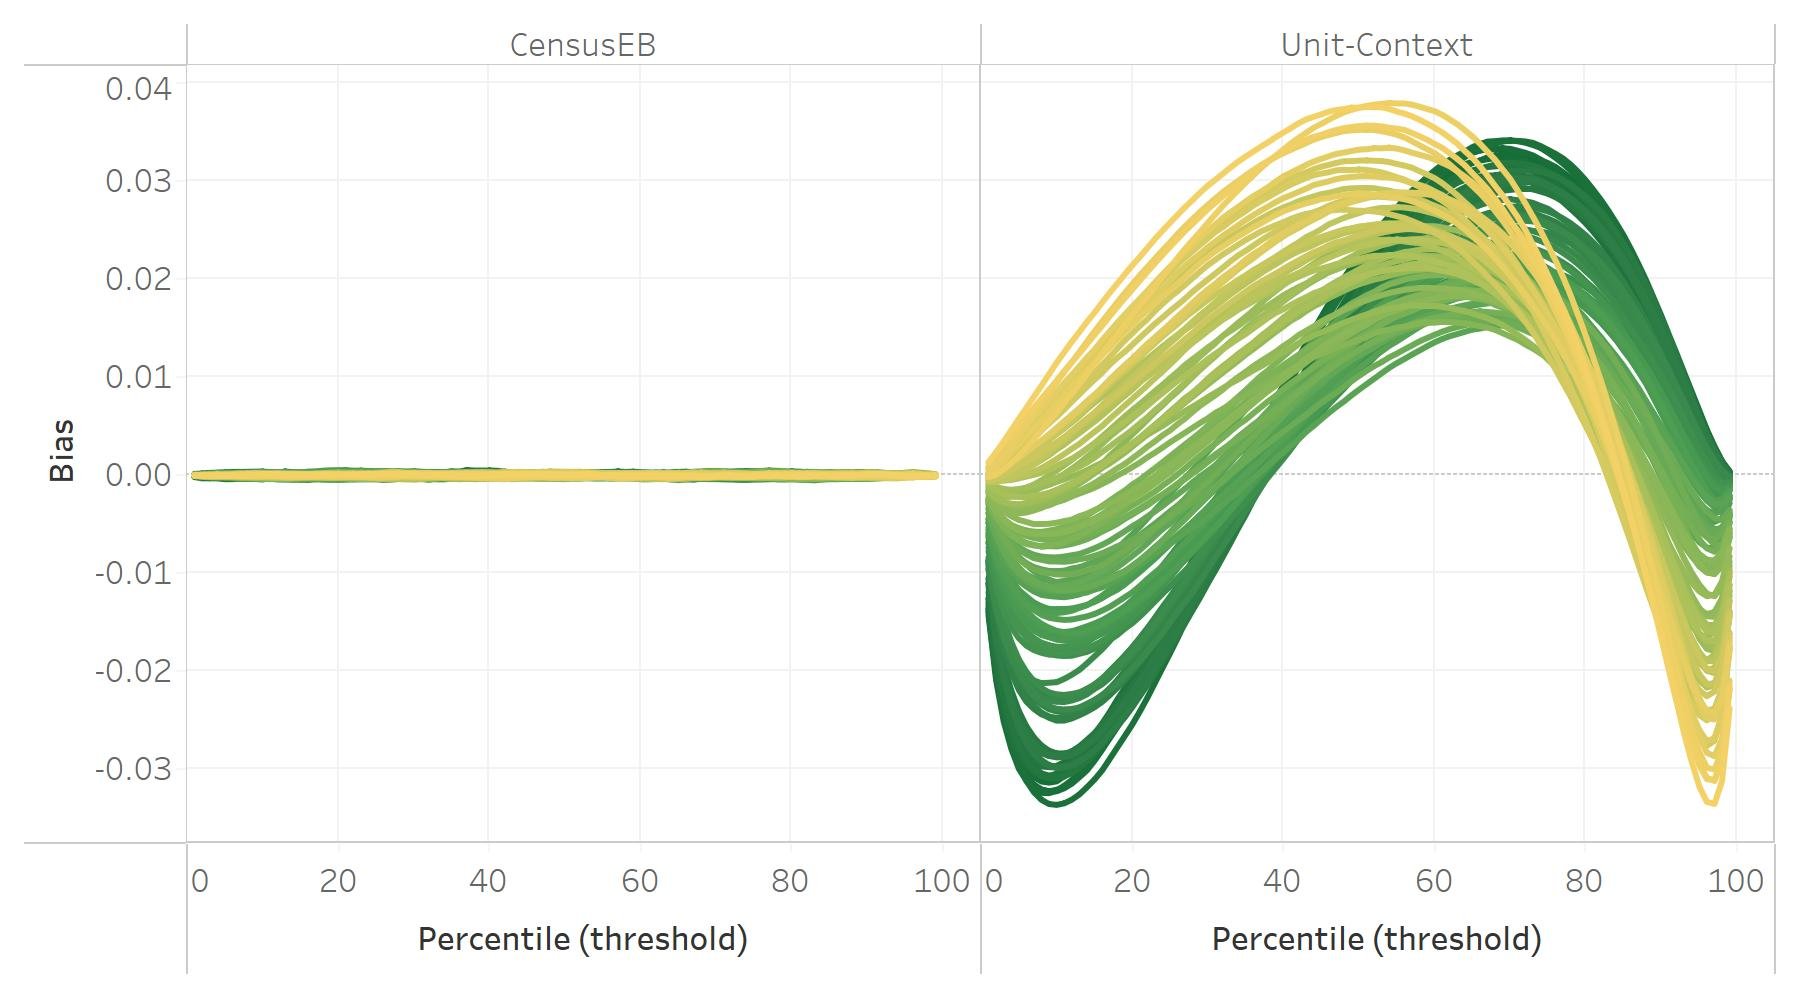

The dashboard page shown, as its layout file describes it:
{"tool":"tableau","page":{"name":"Dashboard 1","canvas":[900,500],"ordinal":0},"visuals":[{"type":"worksheet","title":"Sheet 1","mark":"Line","rows":["value"],"cols":["method","ptile"],"box":[8,8,884,484]}]}

Visuals, with their boxes in screenshot pixels (x1, y1, x2, y2), scaled from the page's 900x500 canvas onto the 1800x1000 screenshot:
"Sheet 1" worksheet (Line marks): {"x1": 16, "y1": 16, "x2": 1784, "y2": 984}
